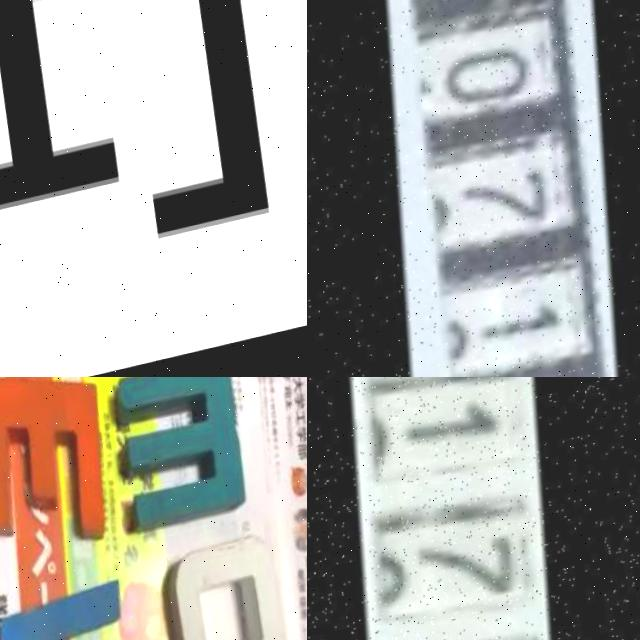0: (440, 29, 551, 114)
1: (398, 377, 524, 468), (472, 279, 579, 364)
7: (407, 503, 549, 627), (452, 152, 570, 246)
E: (0, 377, 125, 567)
M: (107, 377, 264, 546)
Q: (145, 534, 300, 640)
V: (0, 572, 148, 640)
